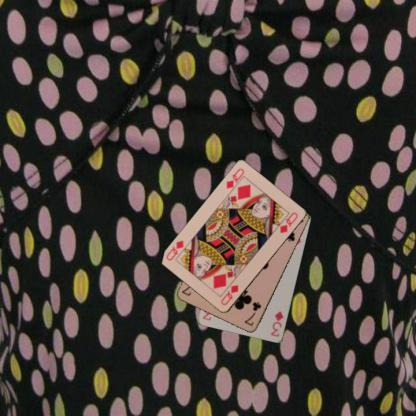3d: (268, 309, 285, 338)
7c: (242, 299, 262, 328)
Qd: (218, 277, 240, 307), (224, 166, 246, 195)
